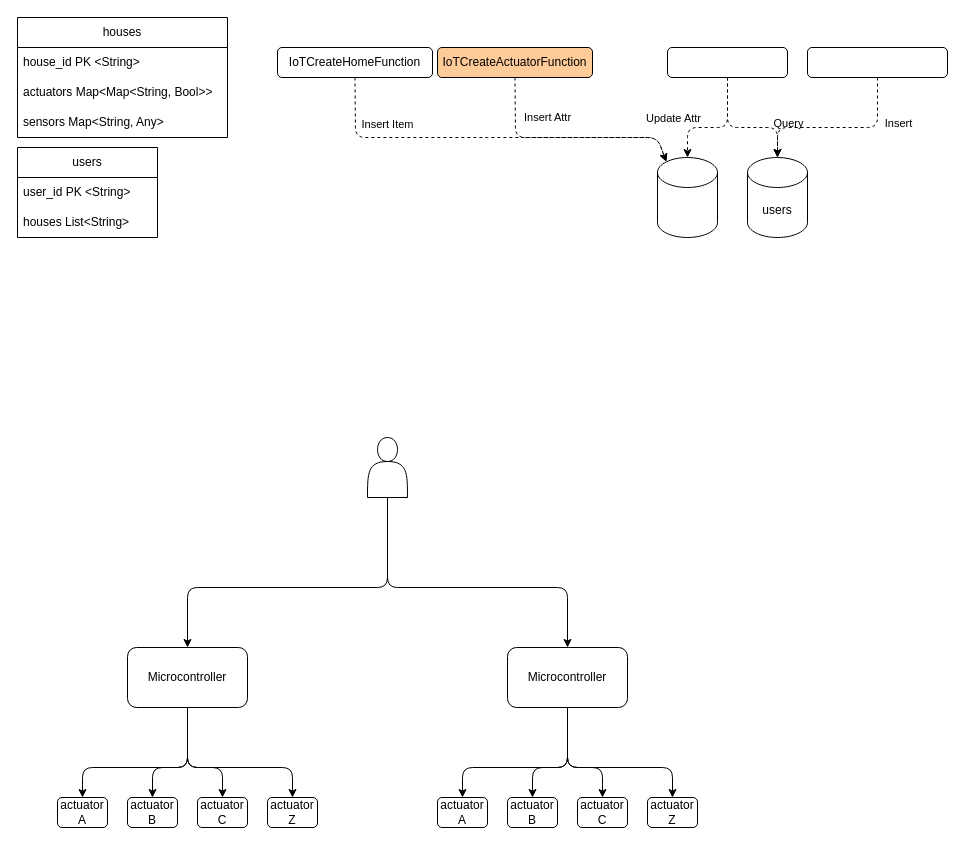
This 965x845 diagram has some shape labels left out. Here are the shapes that lost their labels. From the top down, the centre of each, then its label:
At pixel 727 62: "IoTPublisherFunction".
At pixel 877 62: "IoTCreateUserFunction".
At pixel 687 197: "homes".
